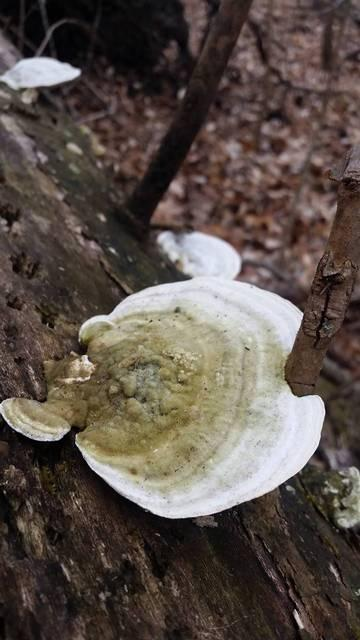poisonous_mushroom: (0, 229, 327, 520)
